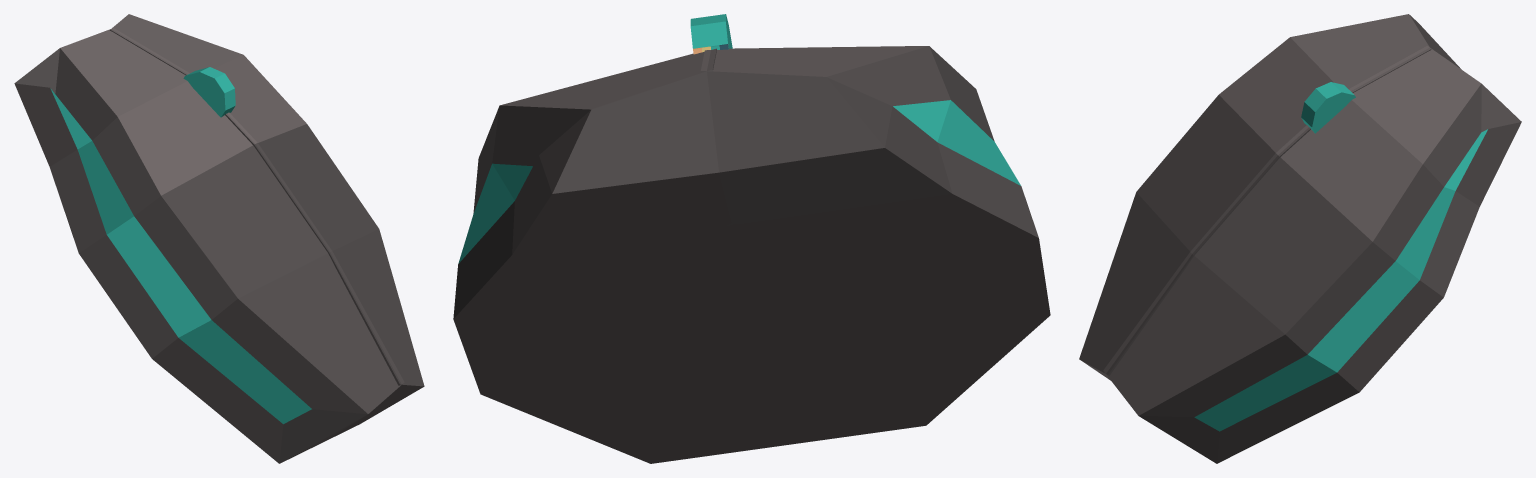
File: mouse.fbx
The picture shows the model from 3 angles, left to right: view 1: azimuth 30°, elevation 25°; view 2: azimuth 150°, elevation 25°; view 3: azimuth 270°, elevation 25°; orthographic projection. The views are drawn at different scales.
Visible parts, largest first — view 1: Cylinder.007; view 2: Cylinder.007; view 3: Cylinder.007.
Part boxes in pixels (x1,y1,x2,y2): Cylinder.007: (14, 14, 424, 463); Cylinder.007: (453, 14, 1050, 463); Cylinder.007: (1079, 14, 1521, 463).
Bounding box in the file's own units: 51.2 × 55.66 × 63.52.
